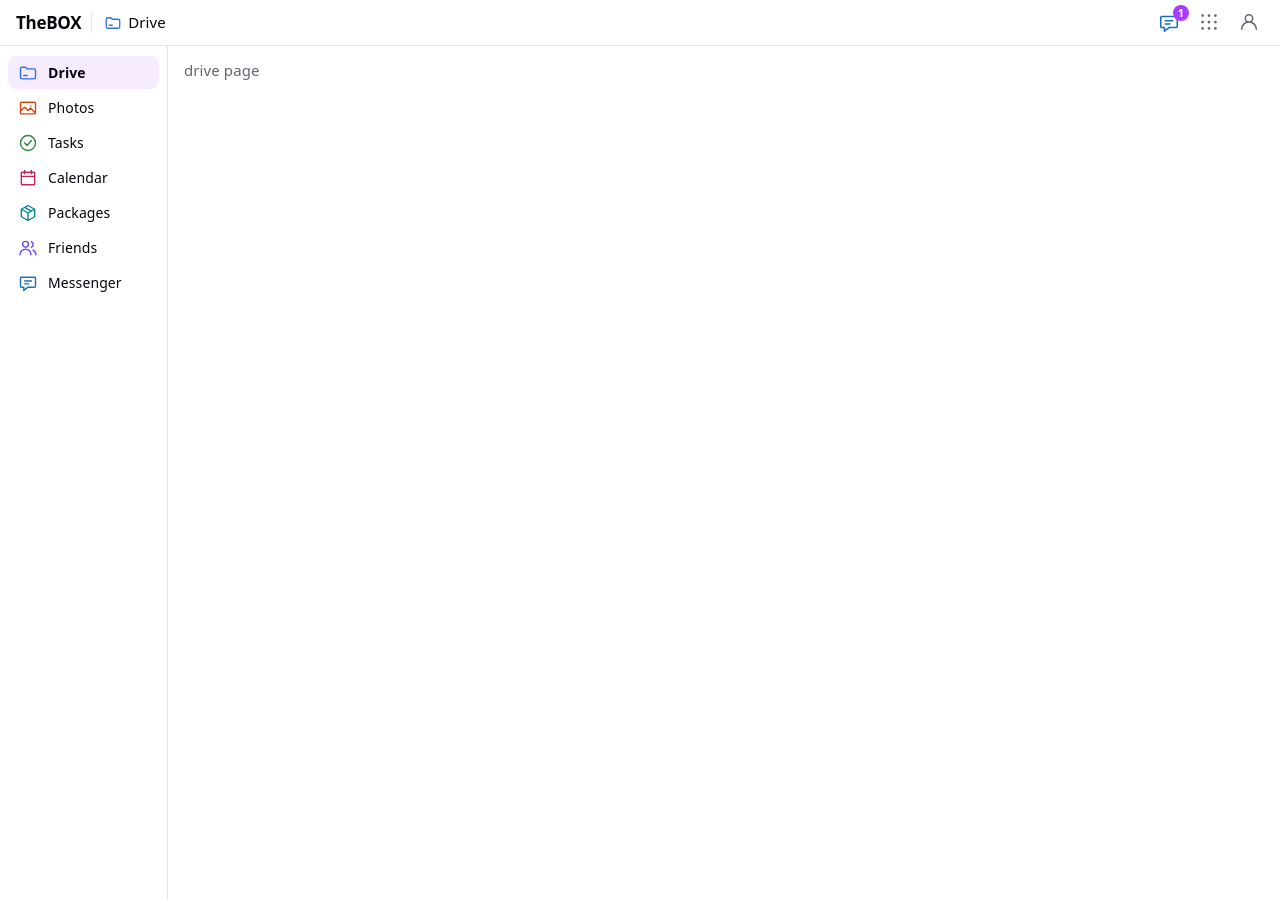
Messenger panel › opens a chat, sends a message with Enter, and goes back to the list
The width and height of the screenshot is (1280, 900).
Click the button named "Messenger".
click(1169, 22)  # box [1154, 8, 1184, 38]
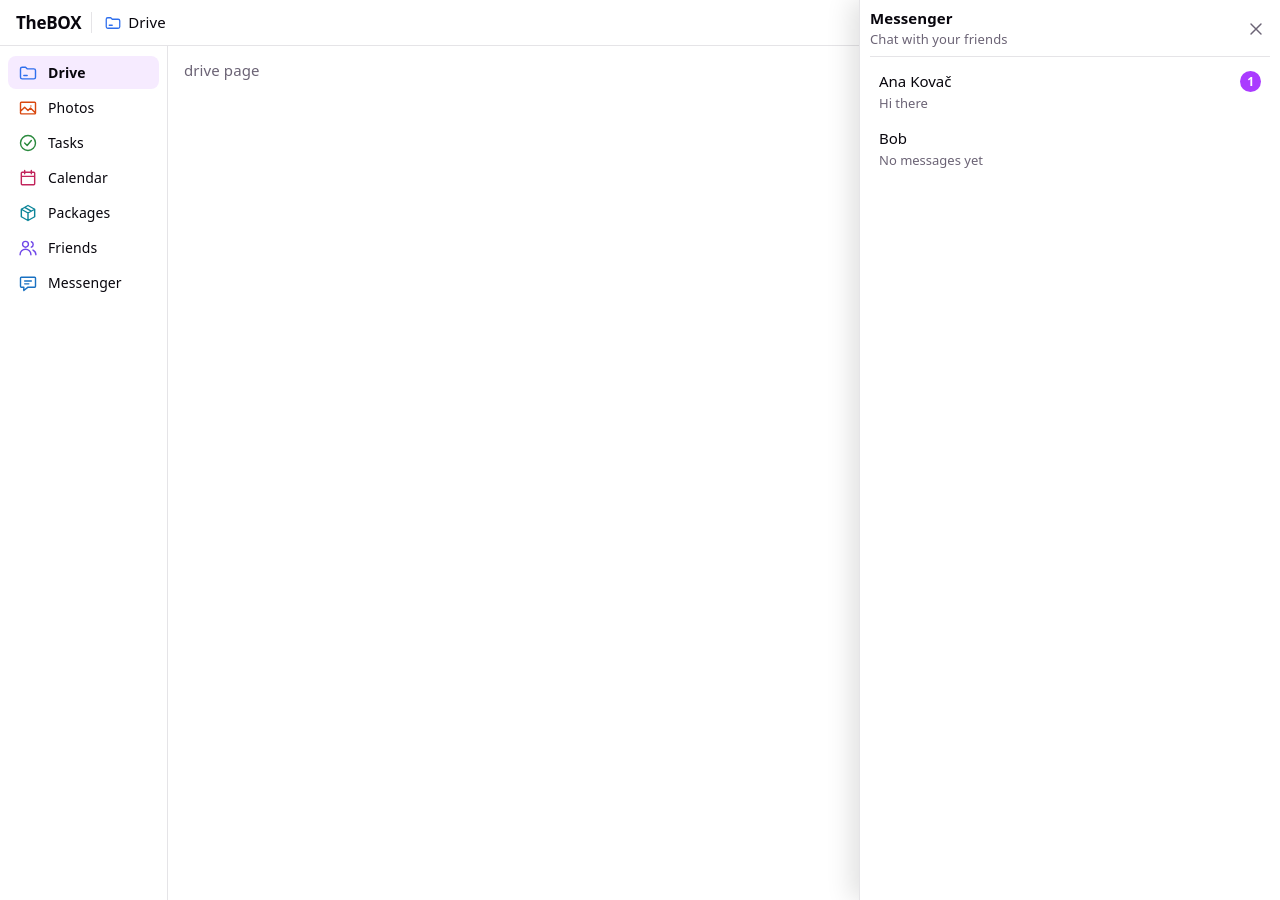
Click the button "Ana Kovač 1 Hi there".
click(915, 81)  # box [870, 65, 1270, 120]
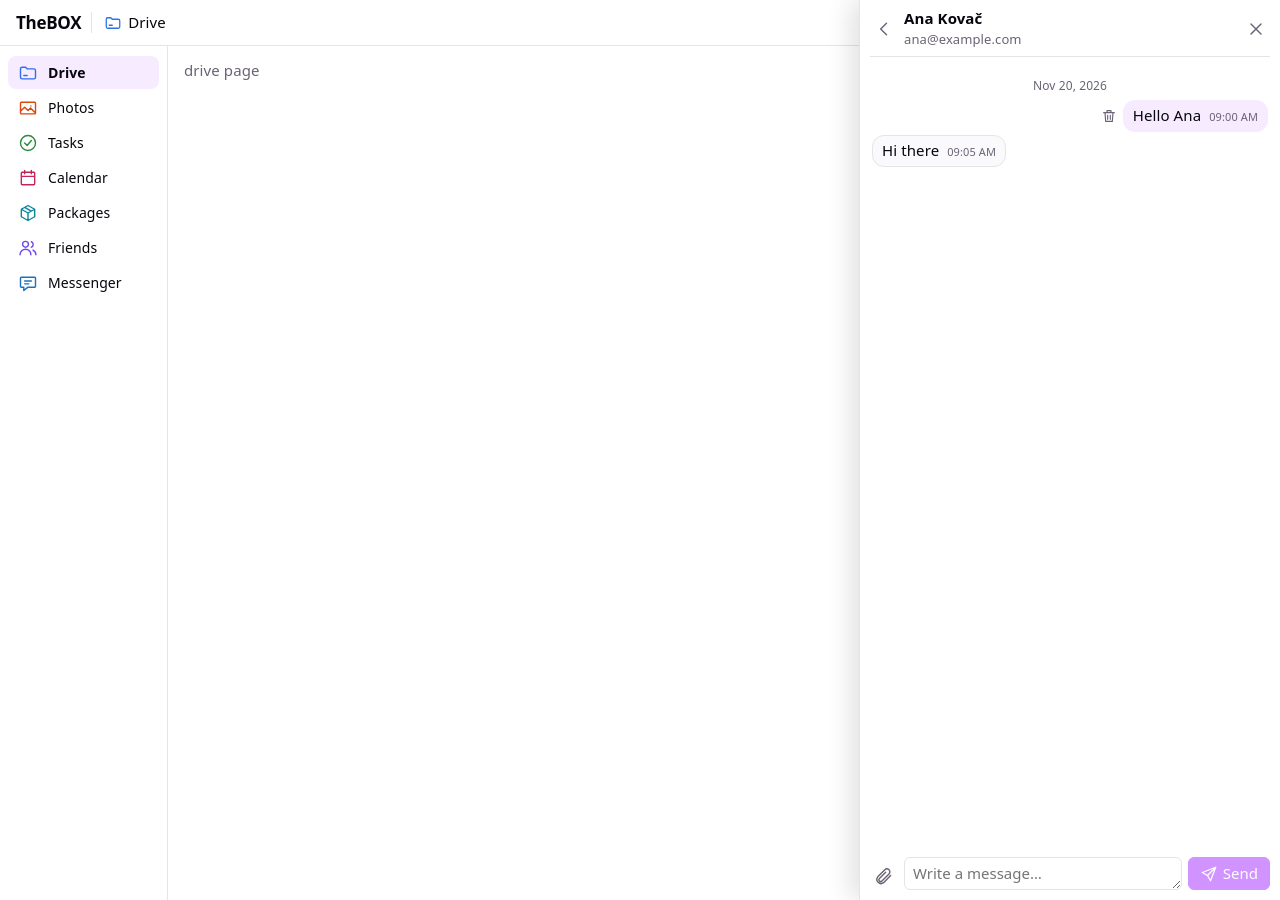
Now the text "Hello Ana" is shown, box [1133, 105, 1201, 126]
Now the button "Send" is disabled, box [1188, 857, 1270, 890]
Type "See you at 5" into the text box named "Message to Ana Kovač".
click(1043, 874); type("See you at 5")  # box [904, 857, 1182, 890]
Then press Enter
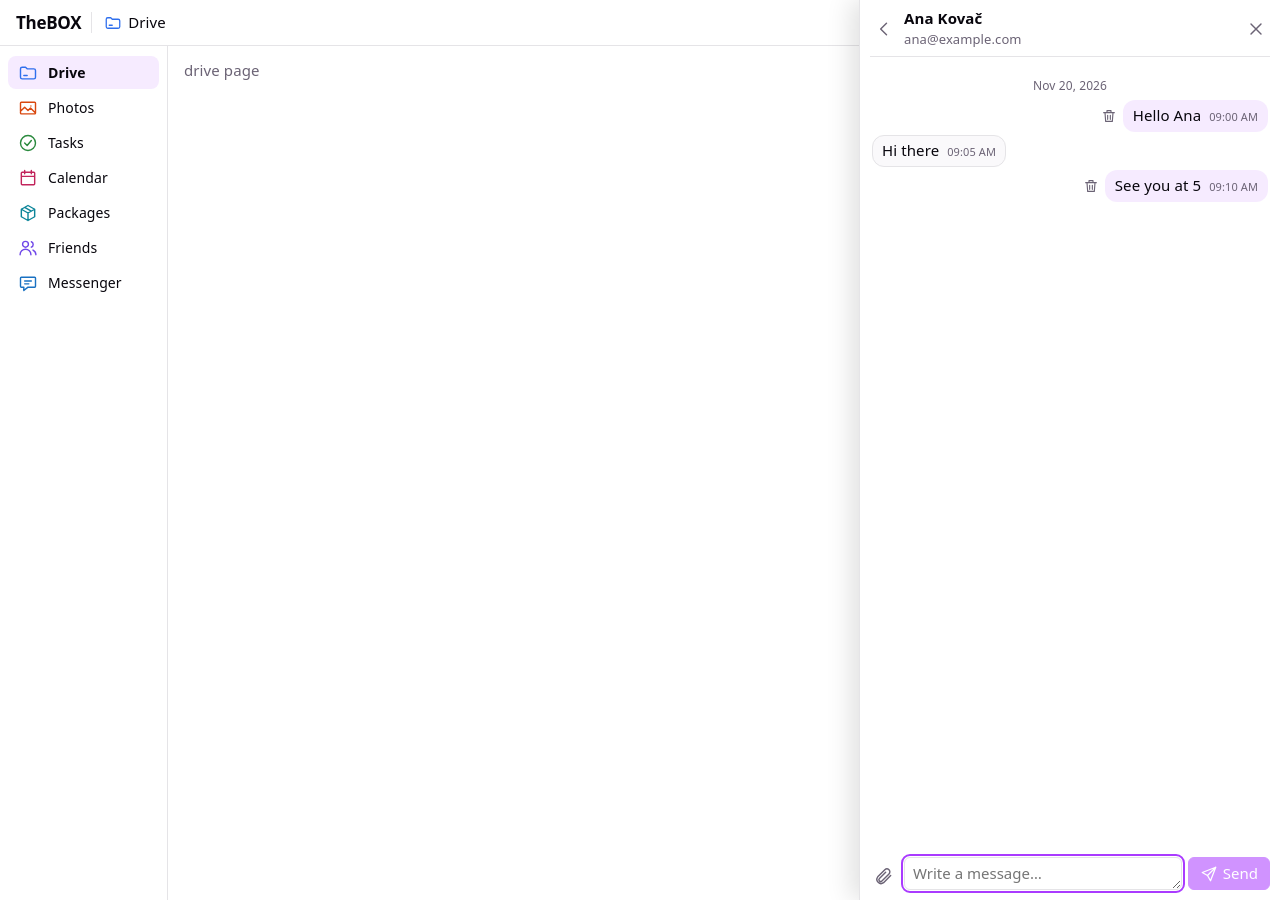
Now the text box named "Message to Ana Kovač" is empty, box [904, 857, 1182, 890]
Now the text "See you at 5" is shown, box [1115, 175, 1201, 196]
Click the button named "Back to all chats".
click(884, 29)  # box [870, 15, 898, 43]
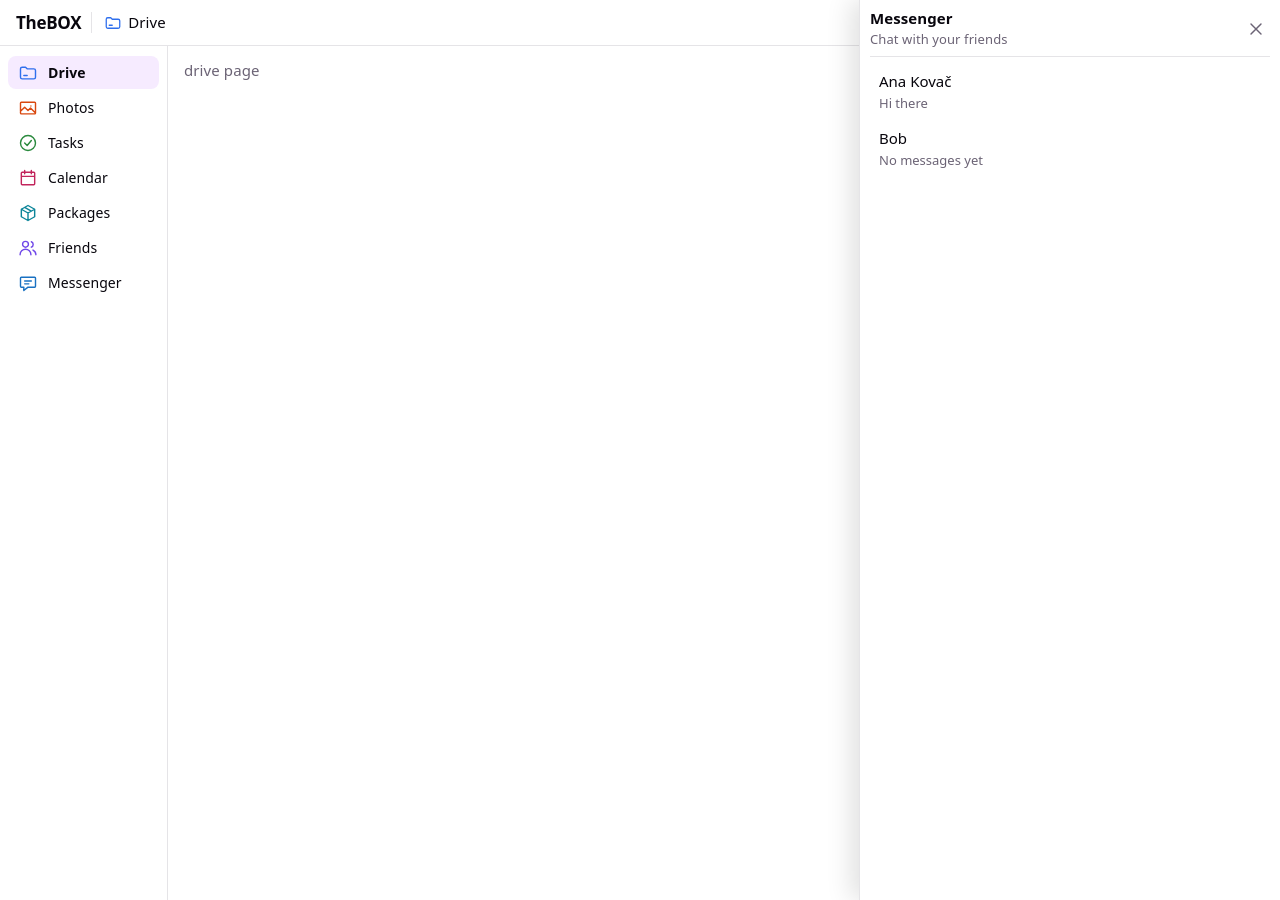
Now the navigation bar named "Chats" is shown, box [870, 65, 1270, 177]
